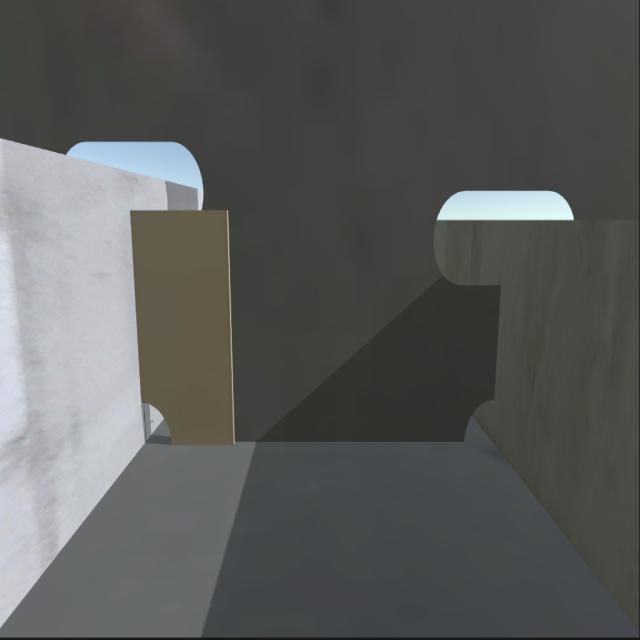fillet_hole: (140, 392, 174, 449), (464, 394, 498, 446)
fillet_yong_jeop_jang: (172, 433, 464, 458)
longi_yong_jeop_jang: (130, 204, 146, 410), (482, 282, 506, 403)
plate_CP01: (141, 203, 232, 449)
